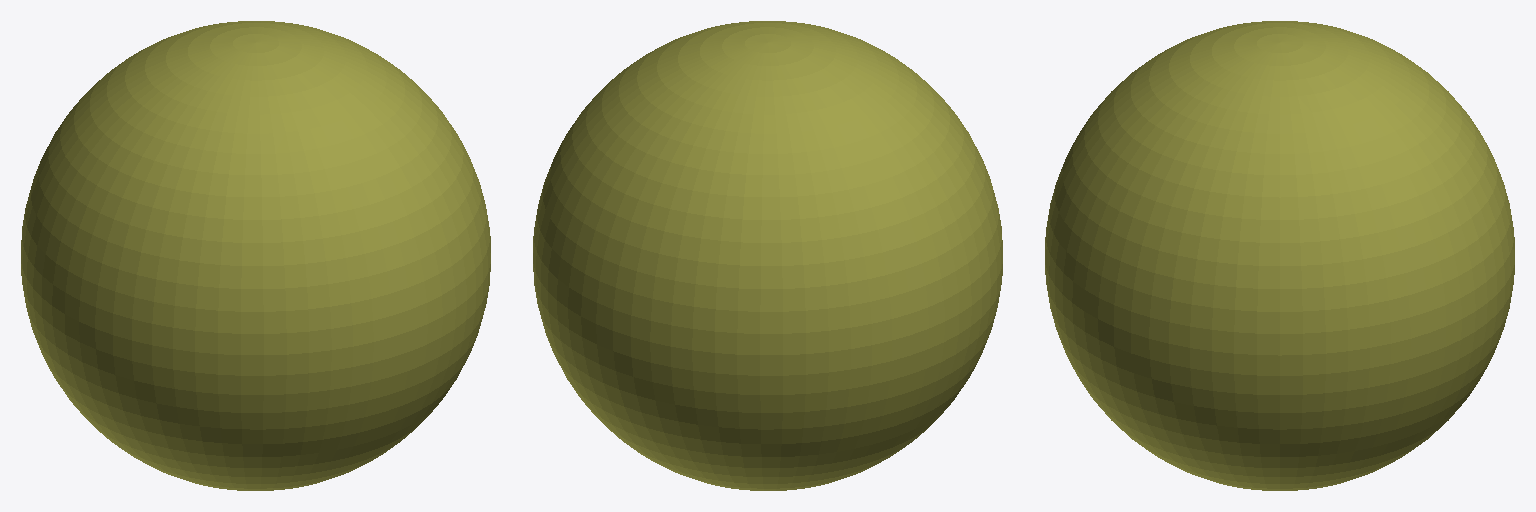
File: ttest.obj
The picture shows the model from 3 angles: view 1: azimuth 30°, elevation 25°; view 2: azimuth 150°, elevation 25°; view 3: azimuth 270°, elevation 25°; orthographic projection.
Parts seen in each view (by area): view 1: Sphere; view 2: Sphere; view 3: Sphere.
Boxes of the visible parts, <box> form: Sphere: <box>21,21,490,490</box>; Sphere: <box>533,21,1002,490</box>; Sphere: <box>1045,21,1514,490</box>.
Bounding box in the file's own units: 2 × 2 × 2.